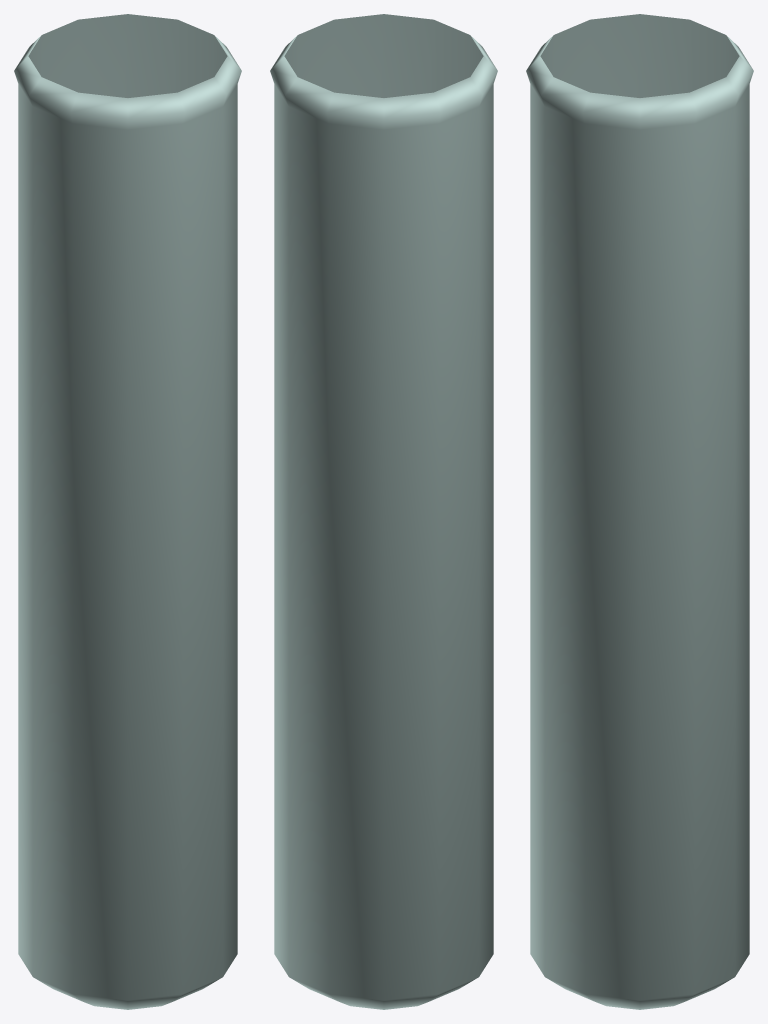
The model's file is TuboDeEnsaio.fbx.
3 views of the same model, side by side, from view 1: azimuth 30°, elevation 25°; view 2: azimuth 150°, elevation 25°; view 3: azimuth 270°, elevation 25° (orthographic).
Parts seen in each view (by area): view 1: TuboDeEnsaio; view 2: TuboDeEnsaio; view 3: TuboDeEnsaio.
Part boxes in pixels (bbox=[...]): TuboDeEnsaio: bbox=[14, 14, 241, 1009]; TuboDeEnsaio: bbox=[270, 14, 497, 1009]; TuboDeEnsaio: bbox=[526, 14, 753, 1009].
Bounding box in the file's own units: 23.78 × 107 × 23.78.
